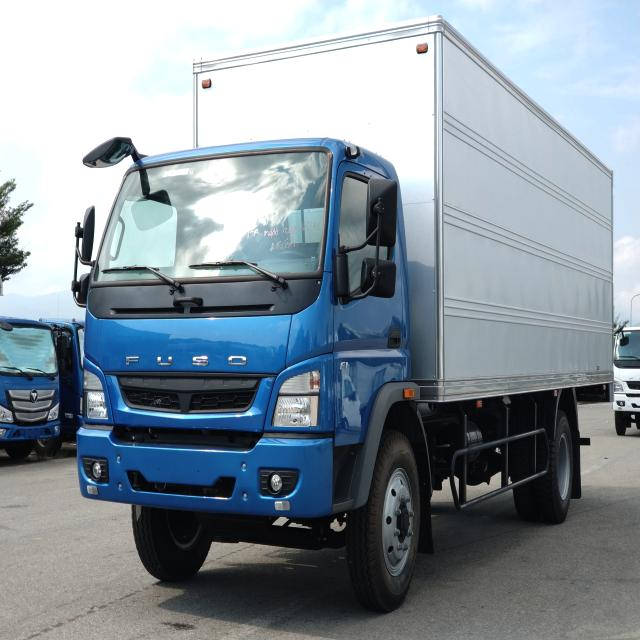truck: (83, 16, 618, 616)
